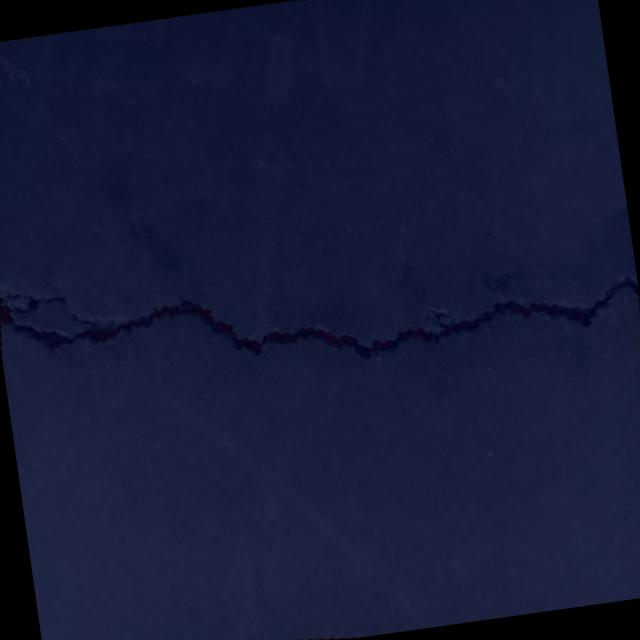crack: (0, 203, 640, 440)
